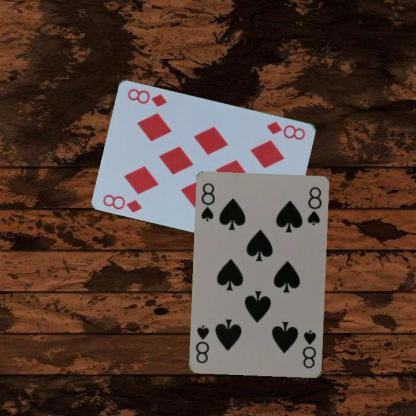8d: (264, 118, 307, 141), (101, 191, 144, 214)
8s: (300, 327, 318, 370), (198, 180, 216, 223)
